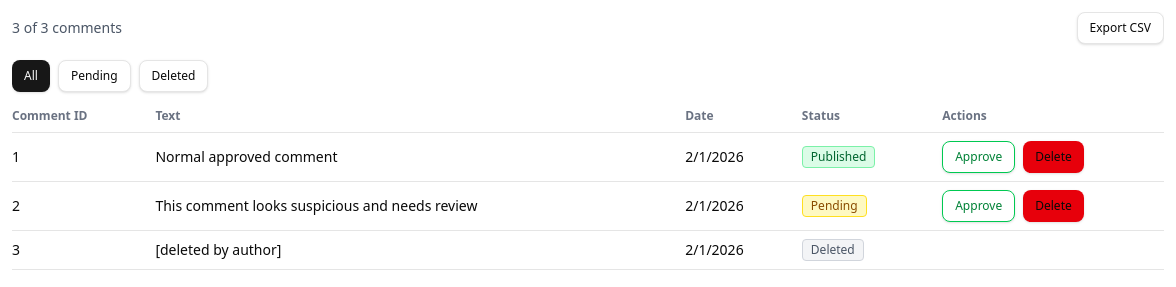
Test: ModerationPanel › shows all comments when All filter is active
Click the button "Pending": [94, 76] box [58, 60, 131, 92]
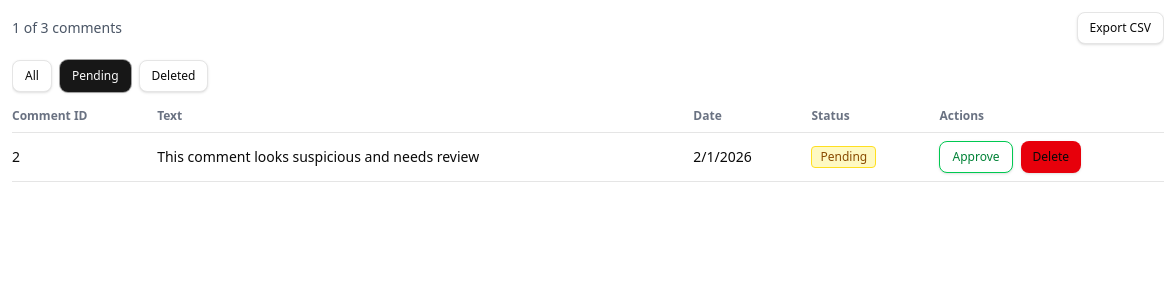
Click the button "All": [32, 76] box [12, 60, 52, 92]
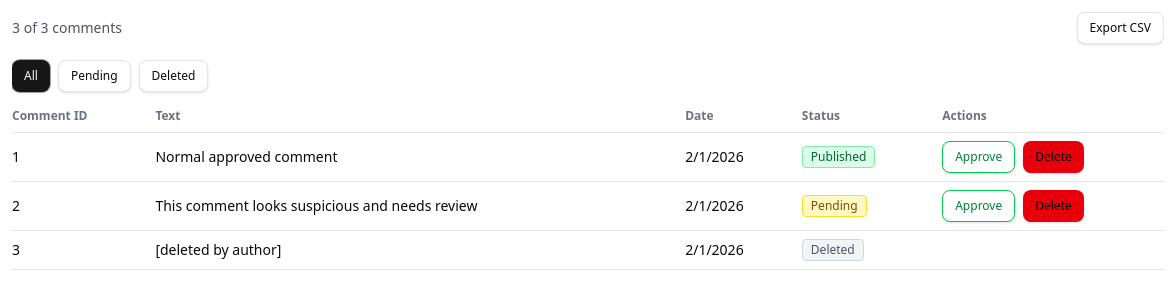
Expected: the text "This comment looks suspicious and needs review" is shown, [155, 182, 685, 230]
Now the text "Normal approved comment" is shown, box [155, 132, 685, 182]
